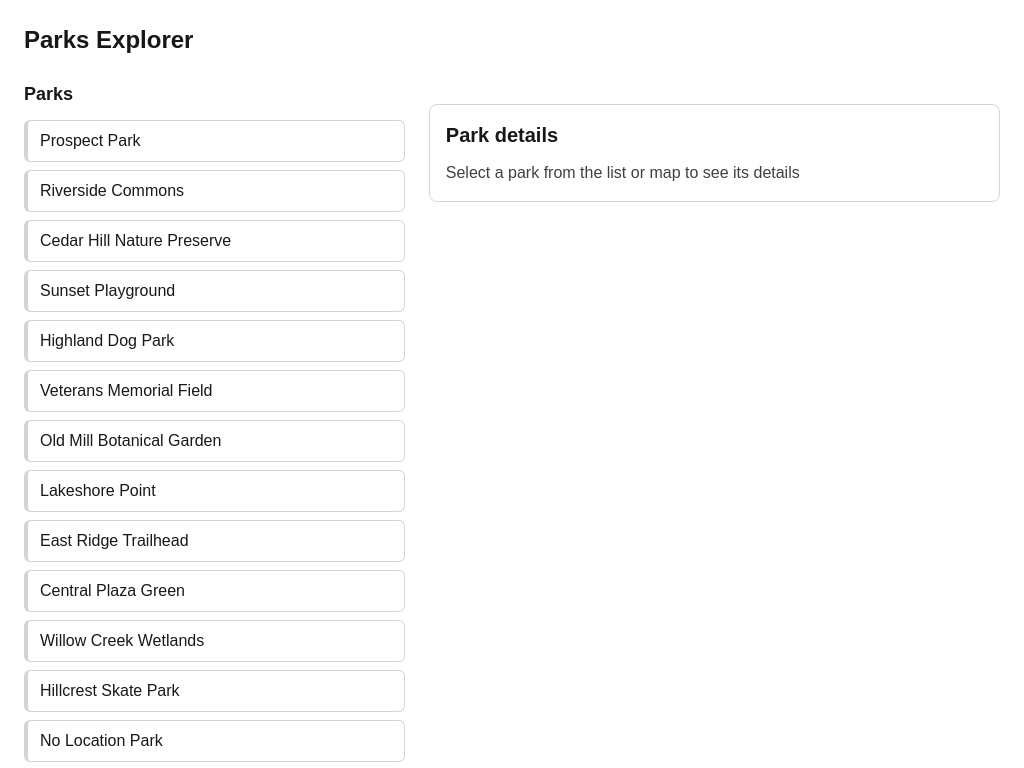
Test: [DES-001][AC-003] a park without coordinates › [TEST-033][AC-003][DES-001][TASK-014] stays listed and selectable and its details render
Click the button "No Location Park".
click(101, 740)  # box [24,720,405,762]
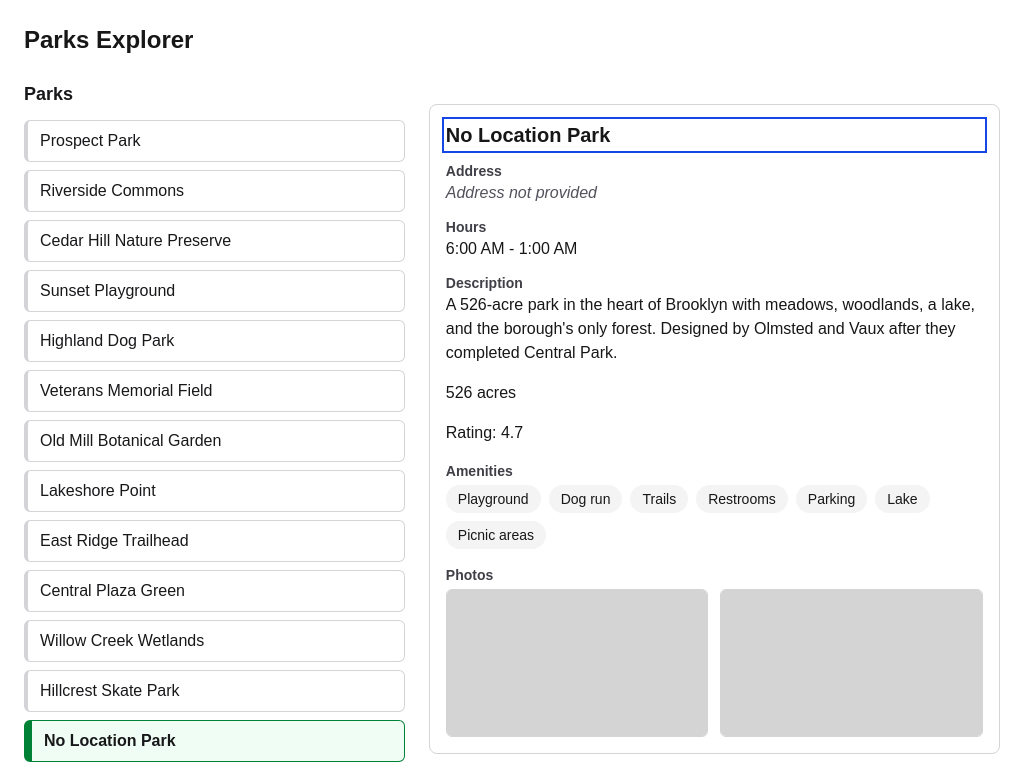
Check: the heading "No Location Park" is shown, box [446,124,610,146]
Check: the text "Address not provided" is shown, box [446,184,597,201]
